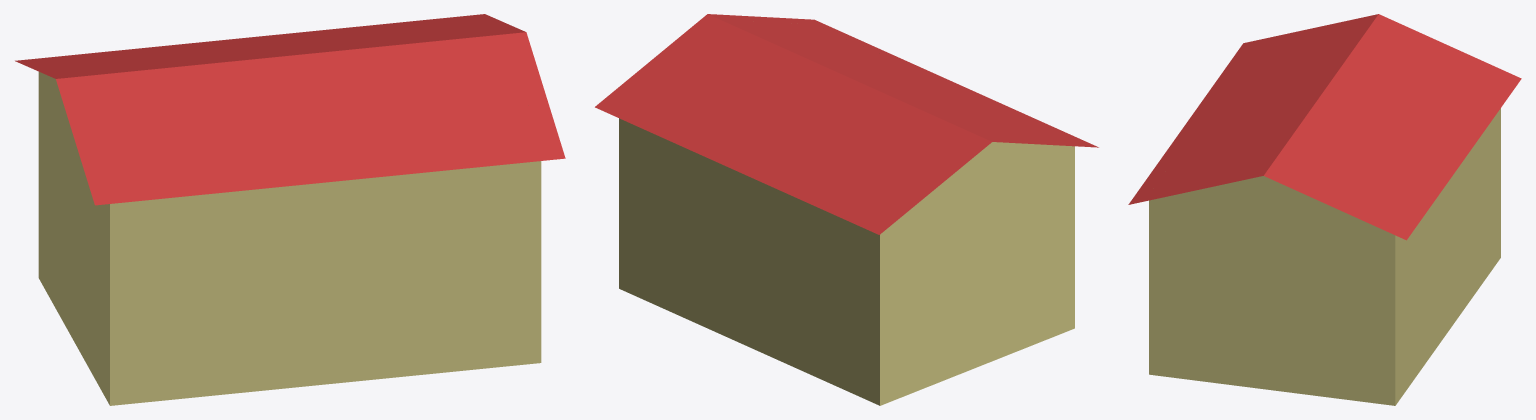
The picture shows the model from 3 angles, left to right: view 1: azimuth 30°, elevation 25°; view 2: azimuth 150°, elevation 25°; view 3: azimuth 270°, elevation 25°; orthographic projection. The views are drawn at different scales.
Parts seen in each view (by area): view 1: group_5, group_3, group_4; view 2: group_5, group_3, group_4; view 3: group_5, group_3, group_4.
Part boxes in pixels (bbox=[...]): group_5: bbox=[38, 72, 541, 405]; group_3: bbox=[15, 14, 563, 205]; group_4: bbox=[56, 31, 565, 163]; group_5: bbox=[619, 118, 1074, 405]; group_3: bbox=[595, 14, 1098, 234]; group_4: bbox=[701, 14, 996, 141]; group_5: bbox=[1149, 108, 1500, 405]; group_3: bbox=[1129, 14, 1521, 240]; group_4: bbox=[1128, 14, 1378, 204].
Bounding box in the file's own units: 20.97 × 17.68 × 10.94.
